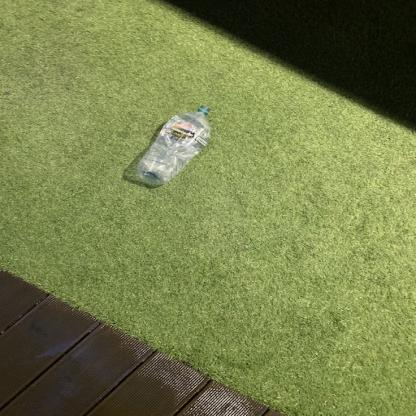trash: (135, 106, 212, 188)
